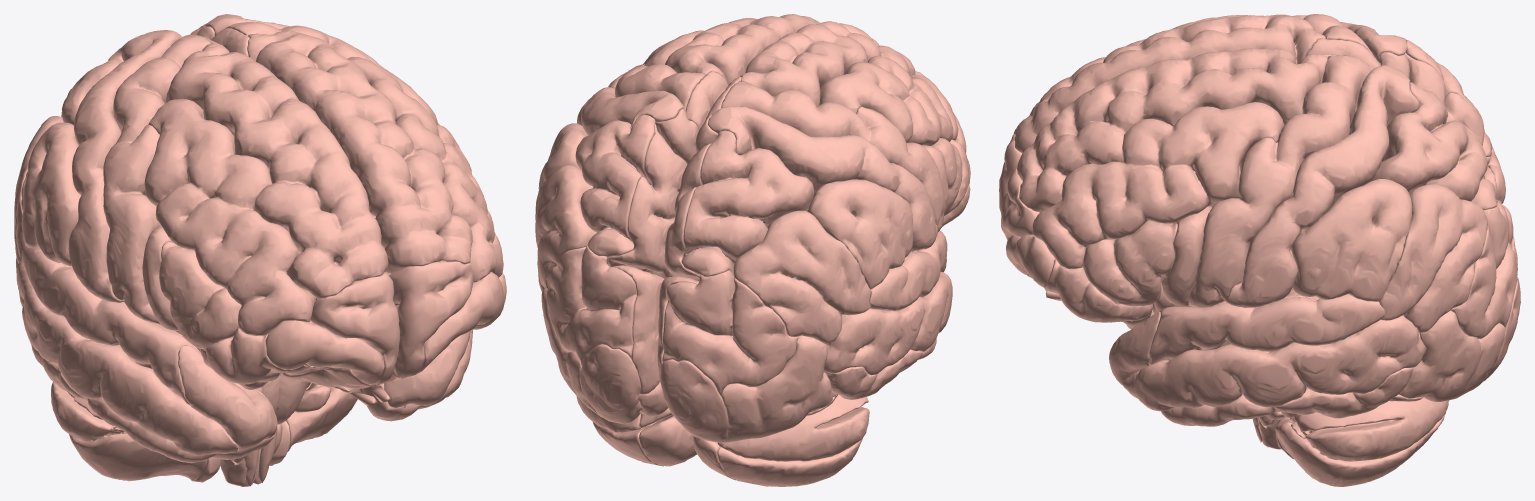
File: brain_model_draco.glb
3 views of the same model, side by side, from view 1: azimuth 30°, elevation 25°; view 2: azimuth 150°, elevation 25°; view 3: azimuth 270°, elevation 25° (orthographic). The views are drawn at different scales.
Visible parts, largest first — view 1: superior_frontal_gyrus_L, middle_frontal_gyrus_L, superior_frontal_gyrus_R, middle_temporal_gyrus_L, precentral_gyrus_L, postcentral_gyrus_L, superior_temporal_gyrus_L, middle_frontal_gyrus_R, supramarginal_gyrus_L, rostral_gyrus_R, lateral_hemisphere_of_cerebellum_L, inferior_frontal_gyrus_triangular_part_L (+19 smaller); view 2: angular_gyrus_L, supraparietal_lobule_L, superior_occipital_gyrus_L, postcentral_gyrus_L, lateral_hemisphere_of_cerebellum_L, superior_occipital_gyrus_R, supraparietal_lobule_R, precentral_gyrus_L, supramarginal_gyrus_L, middle_frontal_gyrus_L, superior_frontal_gyrus_L, inferior_occipital_gyrus_L (+24 smaller); view 3: middle_frontal_gyrus_R, superior_frontal_gyrus_R, middle_temporal_gyrus_R, precentral_gyrus_R, postcentral_gyrus_R, supramarginal_gyrus_R, angular_gyrus_R, superior_temporal_gyrus_R, lateral_hemisphere_of_cerebellum_R, superior_frontal_gyrus_L, supraparietal_lobule_R, inferior_frontal_gyrus_triangular_part_R (+16 smaller).
Part boxes in pixels (x1,y1,x2,y2): superior_frontal_gyrus_L: (165, 43, 388, 299); middle_frontal_gyrus_L: (144, 98, 315, 335); superior_frontal_gyrus_R: (247, 31, 472, 273); middle_temporal_gyrus_L: (16, 260, 238, 455); precentral_gyrus_L: (103, 34, 210, 325); postcentral_gyrus_L: (68, 30, 181, 302); superior_temporal_gyrus_L: (21, 245, 196, 404); middle_frontal_gyrus_R: (347, 56, 503, 282); supramarginal_gyrus_L: (21, 122, 81, 266); rostral_gyrus_R: (389, 260, 473, 378); lateral_hemisphere_of_cerebellum_L: (51, 382, 207, 481); inferior_frontal_gyrus_triangular_part_L: (159, 241, 241, 350); angular_gyrus_L: (733, 210, 870, 344); supraparietal_lobule_L: (681, 130, 814, 276); superior_occipital_gyrus_L: (662, 270, 798, 395); postcentral_gyrus_L: (707, 106, 938, 251); lateral_hemisphere_of_cerebellum_L: (717, 394, 869, 486); superior_occipital_gyrus_R: (546, 245, 636, 365); supraparietal_lobule_R: (575, 114, 655, 256); precentral_gyrus_L: (721, 81, 944, 231); supramarginal_gyrus_L: (807, 179, 912, 289); middle_frontal_gyrus_L: (819, 55, 966, 152); superior_frontal_gyrus_L: (740, 21, 923, 106); inferior_occipital_gyrus_L: (721, 335, 836, 442); middle_frontal_gyrus_R: (1032, 102, 1284, 269); superior_frontal_gyrus_R: (1017, 48, 1327, 212); middle_temporal_gyrus_R: (1122, 315, 1425, 411); precentral_gyrus_R: (1188, 55, 1371, 307); postcentral_gyrus_R: (1225, 65, 1420, 307); supramarginal_gyrus_R: (1290, 179, 1412, 301); angular_gyrus_R: (1379, 184, 1487, 333); superior_temporal_gyrus_R: (1149, 294, 1384, 365); lateral_hemisphere_of_cerebellum_R: (1267, 397, 1448, 486); superior_frontal_gyrus_L: (1013, 14, 1325, 153); supraparietal_lobule_R: (1371, 82, 1497, 209); inferior_frontal_gyrus_triangular_part_R: (1082, 220, 1177, 306).
Size of the model in its own units: 2.19 by 2.34 by 2.68.
